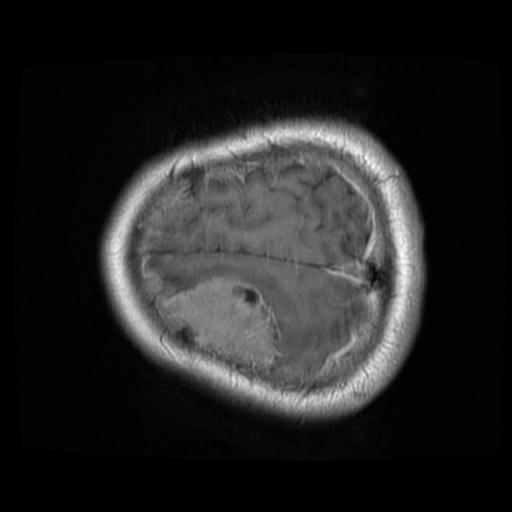meningioma: (155, 275, 279, 373)
